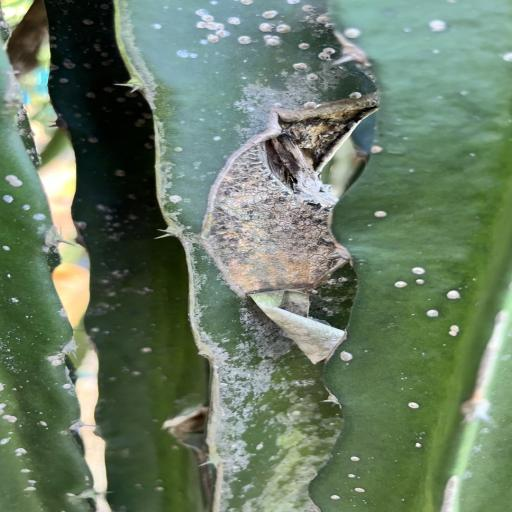stemcanker: (180, 0, 290, 51), (418, 12, 458, 40), (288, 62, 325, 88), (360, 208, 408, 222), (336, 344, 356, 370), (341, 26, 369, 43), (382, 279, 410, 295), (418, 307, 446, 323), (436, 326, 474, 337), (405, 264, 434, 278), (364, 141, 389, 156), (168, 141, 188, 158), (318, 44, 338, 60), (446, 289, 466, 304), (348, 485, 374, 496), (164, 193, 186, 205), (289, 41, 313, 52), (406, 400, 422, 416), (325, 492, 341, 506), (412, 279, 434, 289), (295, 2, 314, 12), (348, 454, 362, 464), (206, 134, 223, 142), (412, 442, 426, 450), (339, 475, 363, 479)
